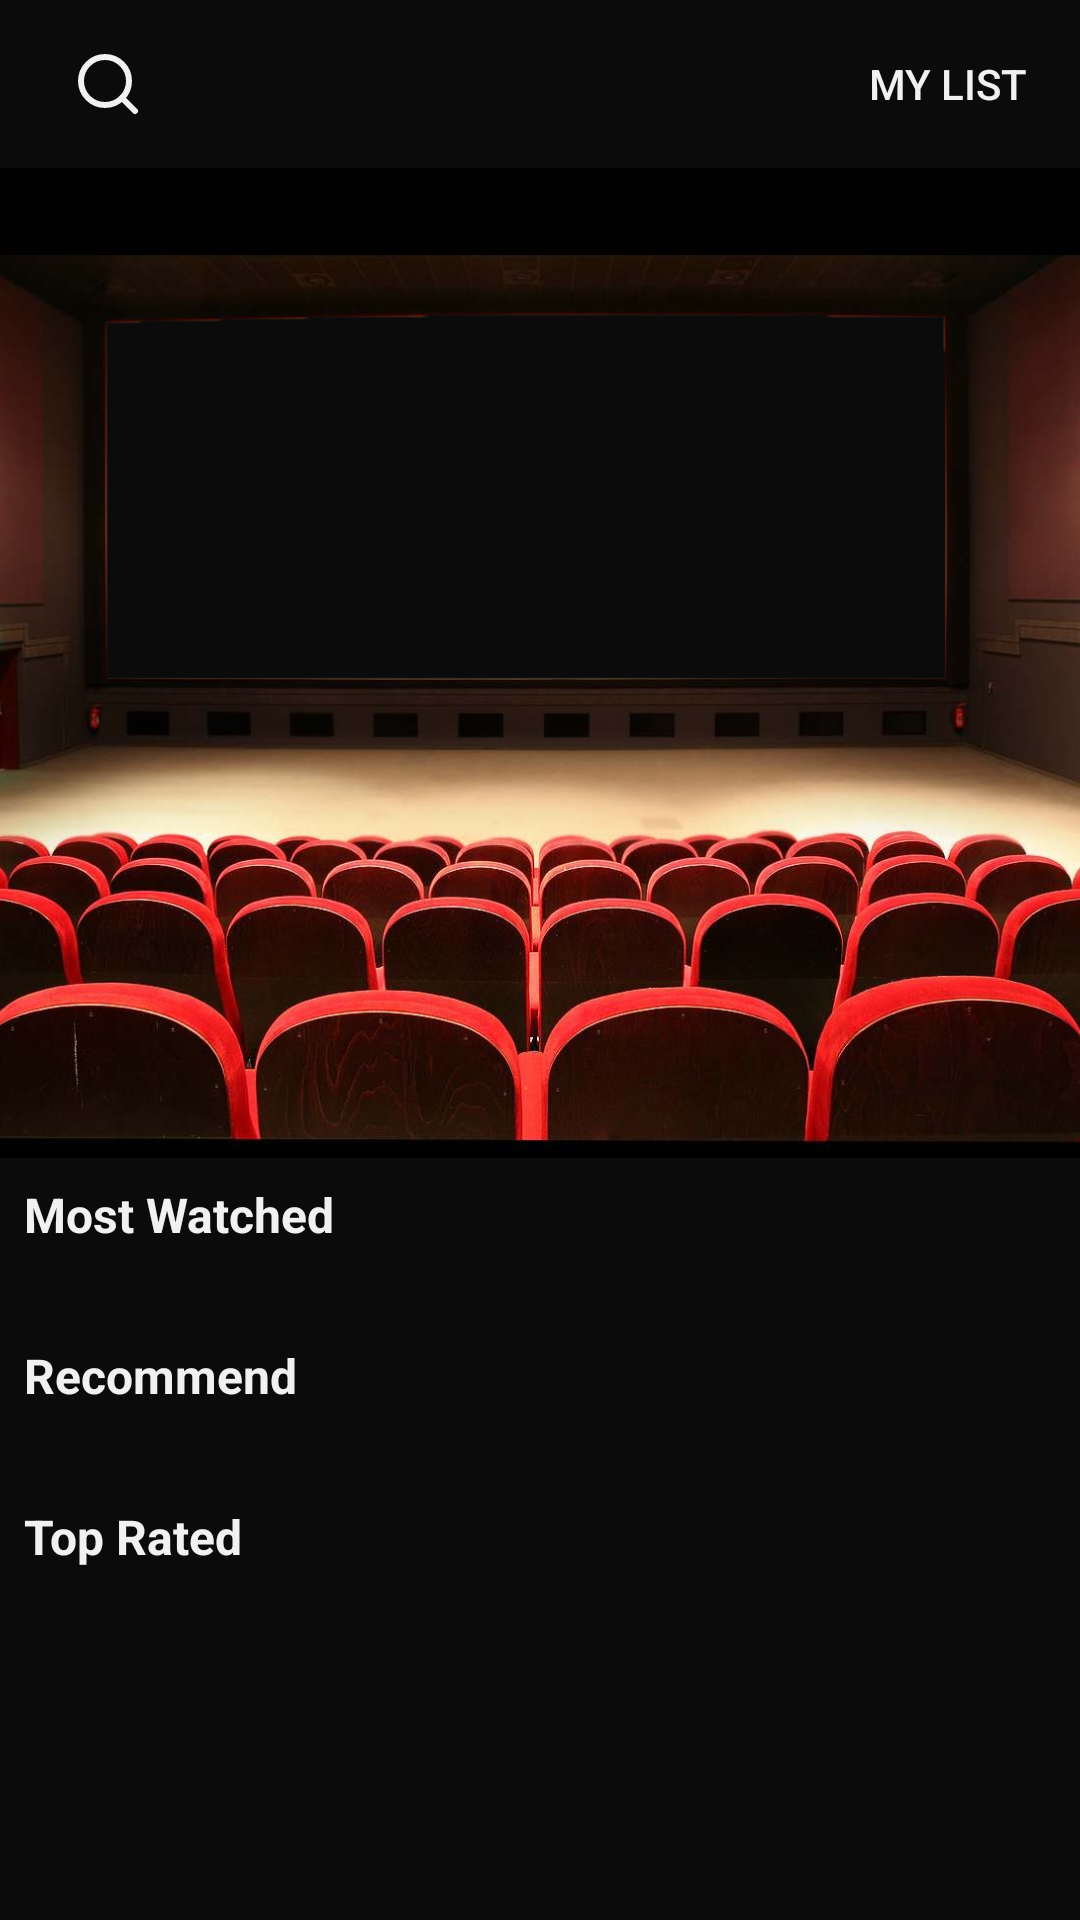

Screen size 1080w x 1920h. Icon name, then its box in pixels as (x1, y1, x2, y2):
Search: (78, 54, 138, 114)
